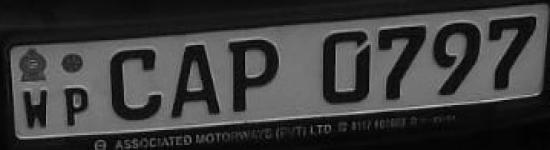0: (316, 24, 374, 107)
7: (374, 21, 428, 108), (486, 9, 539, 94)
9: (429, 16, 484, 100)
A: (166, 40, 224, 122)
C: (104, 42, 166, 128)
P: (226, 34, 285, 116), (59, 80, 94, 132)
W: (18, 86, 56, 131)
